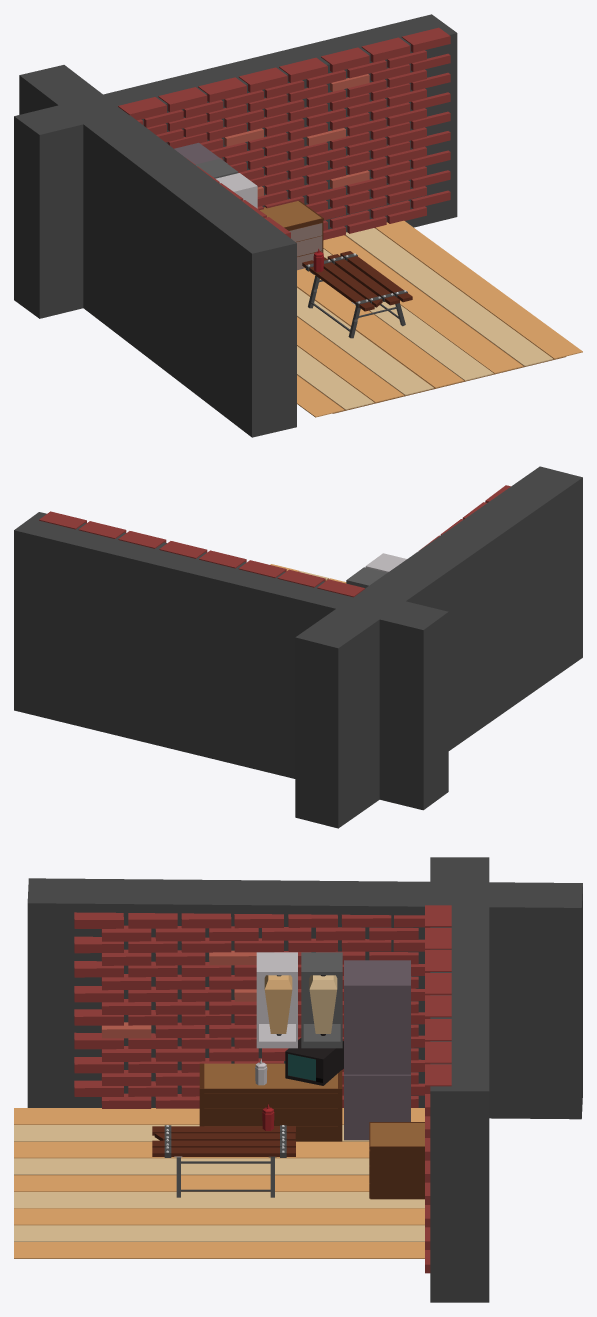
File: Proyecto2Mesa.fbx
The picture shows the model from 3 angles, top to bottom: view 1: azimuth 30°, elevation 25°; view 2: azimuth 150°, elevation 25°; view 3: azimuth 270°, elevation 25°; orthographic projection. The views are drawn at different scales.
Visible parts, largest first — view 1: Cubo.314, Cubo.313, Cubo.026, Cubo.025, Cubo.027, Cubo.023, Cubo, Cubo.024, Cubo.030, Cubo.040, Cubo.029, Cubo.031 (+15 smaller); view 2: Cubo.313, Cubo.314, Cubo.035, Cubo.189, Cubo.196, Cubo.194, Cubo.192, Cubo.193, Cubo.197, Cubo.195, Cubo.191, Cubo.038; view 3: Cubo.314, Cubo.313, Cubo.034, Cubo.033, Cubo.027, Cubo.025, Cubo.026, Cubo.024, Cubo, Cubo.023, Cubo.040, Cubo.030 (+72 smaller).
Boxes of the visible parts, bbox=[...] form: Cubo.314: bbox=[19, 65, 296, 437]; Cubo.313: bbox=[14, 14, 457, 318]; Cubo.026: bbox=[346, 228, 553, 366]; Cubo.025: bbox=[376, 220, 582, 359]; Cubo.027: bbox=[323, 235, 523, 373]; Cubo.023: bbox=[297, 268, 463, 388]; Cubo: bbox=[297, 288, 433, 395]; Cubo.024: bbox=[323, 249, 493, 380]; Cubo.030: bbox=[297, 317, 403, 402]; Cubo.040: bbox=[260, 200, 323, 270]; Cubo.029: bbox=[297, 346, 374, 409]; Cubo.031: bbox=[297, 228, 566, 413]; Cubo.313: bbox=[14, 512, 448, 810]; Cubo.314: bbox=[295, 466, 582, 828]; Cubo.035: bbox=[346, 567, 386, 588]; Cubo.189: bbox=[277, 569, 325, 587]; Cubo.196: bbox=[118, 531, 166, 548]; Cubo.194: bbox=[159, 541, 207, 558]; Cubo.192: bbox=[199, 550, 246, 568]; Cubo.193: bbox=[238, 560, 286, 577]; Cubo.197: bbox=[78, 521, 126, 538]; Cubo.195: bbox=[39, 511, 86, 529]; Cubo.191: bbox=[317, 579, 364, 597]; Cubo.038: bbox=[365, 553, 406, 572]; Cubo.314: bbox=[27, 878, 582, 1119]; Cubo.313: bbox=[430, 857, 489, 1302]; Cubo.034: bbox=[344, 960, 410, 1140]; Cubo.033: bbox=[199, 1063, 342, 1141]; Cubo.027: bbox=[14, 1208, 424, 1225]; Cubo.025: bbox=[14, 1242, 424, 1258]; Cubo.026: bbox=[14, 1225, 424, 1241]; Cubo.024: bbox=[14, 1192, 424, 1208]; Cubo: bbox=[14, 1158, 369, 1174]; Cubo.023: bbox=[14, 1175, 369, 1191]; Cubo.040: bbox=[369, 1122, 424, 1199]; Cubo.030: bbox=[14, 1141, 369, 1158].
Bounding box in the file's own units: 1881 × 795 × 1931.
